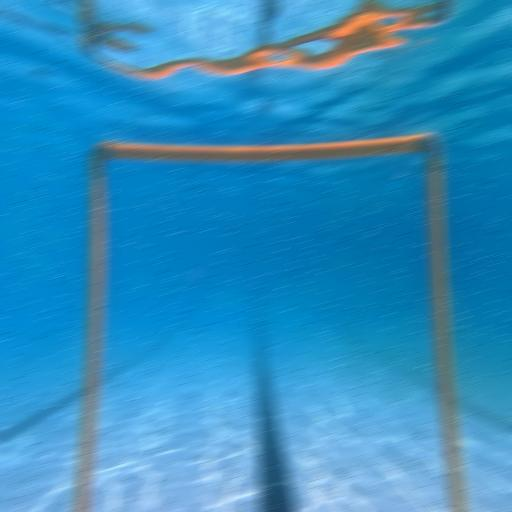gate: (74, 132, 468, 512)
